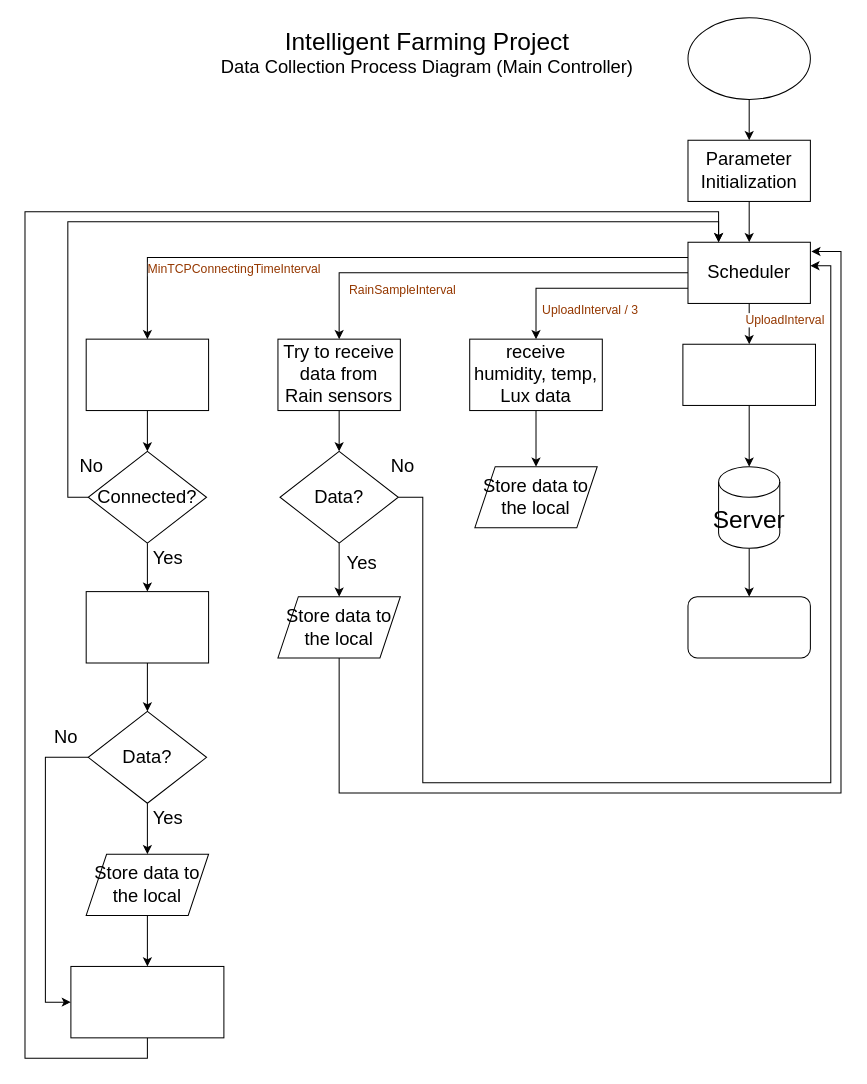
This 867x1084 diagram has some shape labels left out. Each missing label, with the centre of its shape:
"End" goes at point (748, 627).
"Require water data" goes at point (147, 627).
"Send Data to Server by UDP" goes at point (748, 374).
"Send FlagOfException To Server" goes at point (147, 1001).
"Start" goes at point (748, 58).
"Try to connect to ESP32" goes at point (147, 374).
